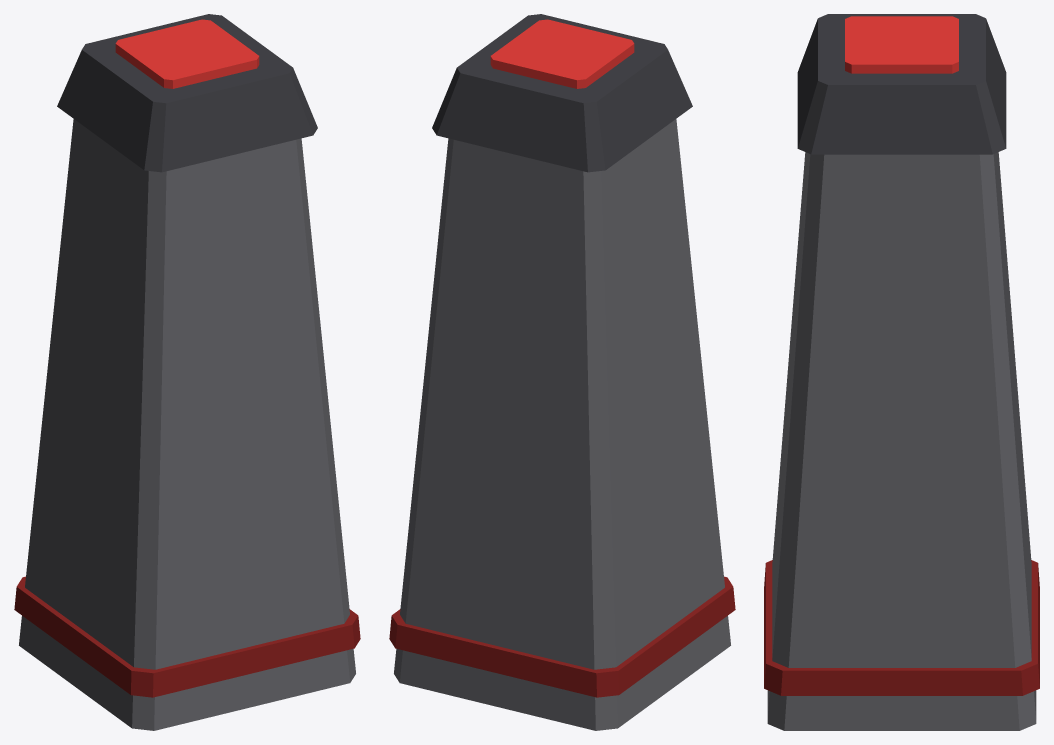
Rendered from void_monolith_pillar_d.obj.
The picture shows the model from 3 angles, left to right: view 1: azimuth 30°, elevation 25°; view 2: azimuth 150°, elevation 25°; view 3: azimuth 270°, elevation 25°; orthographic projection. The views are drawn at different scales.
Parts seen in each view (by area): view 1: void_monolith_pillar_d_0, void_monolith_pillar_d_1, void_monolith_pillar_d_3, void_monolith_pillar_d_2; view 2: void_monolith_pillar_d_0, void_monolith_pillar_d_1, void_monolith_pillar_d_3, void_monolith_pillar_d_2; view 3: void_monolith_pillar_d_0, void_monolith_pillar_d_1, void_monolith_pillar_d_3, void_monolith_pillar_d_2.
Boxes of the visible parts, box(x1,y1,x2,y2) form: void_monolith_pillar_d_0: box(19, 119, 355, 730); void_monolith_pillar_d_1: box(57, 14, 317, 172); void_monolith_pillar_d_3: box(14, 576, 360, 697); void_monolith_pillar_d_2: box(115, 19, 259, 88); void_monolith_pillar_d_0: box(394, 119, 730, 730); void_monolith_pillar_d_1: box(432, 14, 692, 172); void_monolith_pillar_d_3: box(389, 576, 735, 697); void_monolith_pillar_d_2: box(490, 19, 634, 88); void_monolith_pillar_d_0: box(767, 152, 1036, 730); void_monolith_pillar_d_1: box(797, 14, 1006, 154); void_monolith_pillar_d_3: box(764, 560, 1039, 695); void_monolith_pillar_d_2: box(845, 16, 958, 73).
Size of the model in its own units: 0.82 by 2.08 by 0.82.
